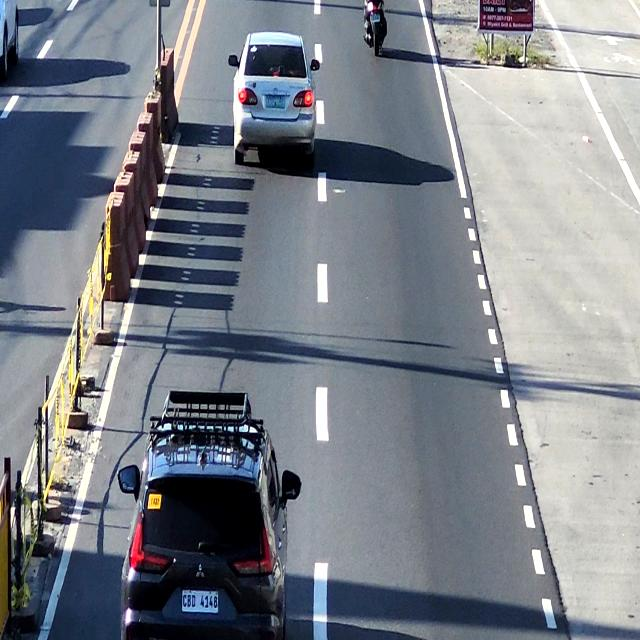Car: (127, 397, 285, 640), (231, 31, 317, 166)
License-Plate: (180, 586, 222, 614), (262, 93, 288, 111), (368, 13, 382, 23)
Motorcycle: (361, 0, 389, 57)
